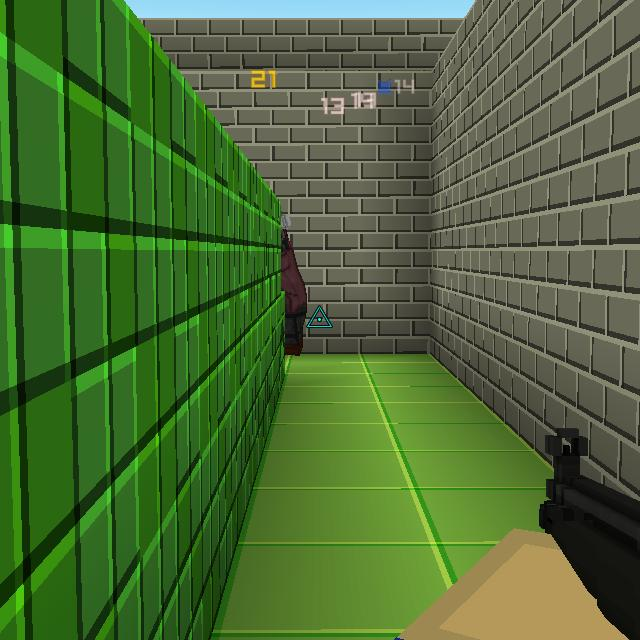enemy: (280, 205, 309, 358)
